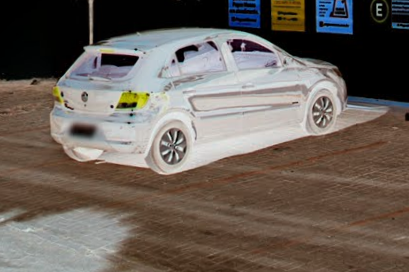car: (48, 25, 348, 175)
